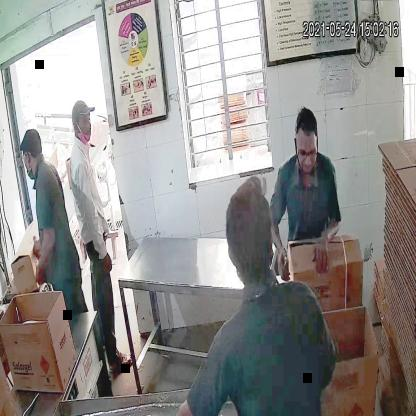goggles: (293, 141, 321, 163)
no_goggles: (69, 113, 96, 132)
